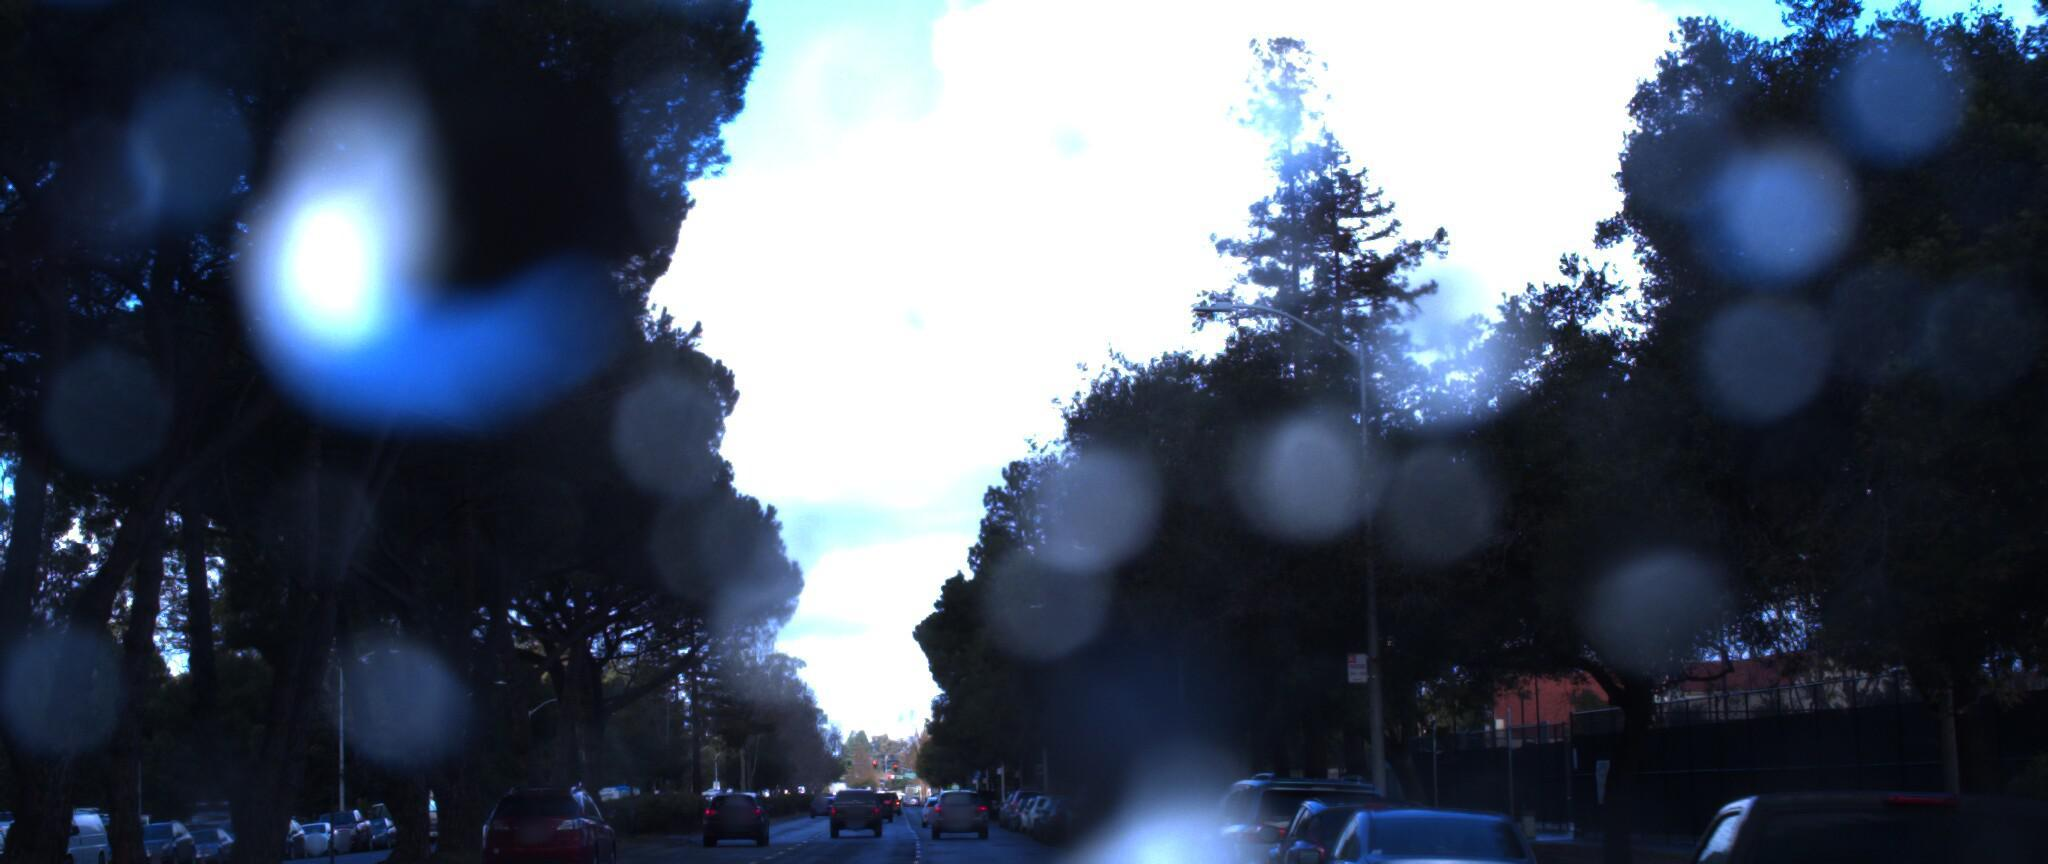car: (1567, 760, 2048, 864), (1225, 779, 1458, 864), (1283, 803, 1582, 864), (1170, 775, 1366, 864), (481, 777, 633, 864), (1132, 784, 1290, 864), (1085, 787, 1198, 864)
